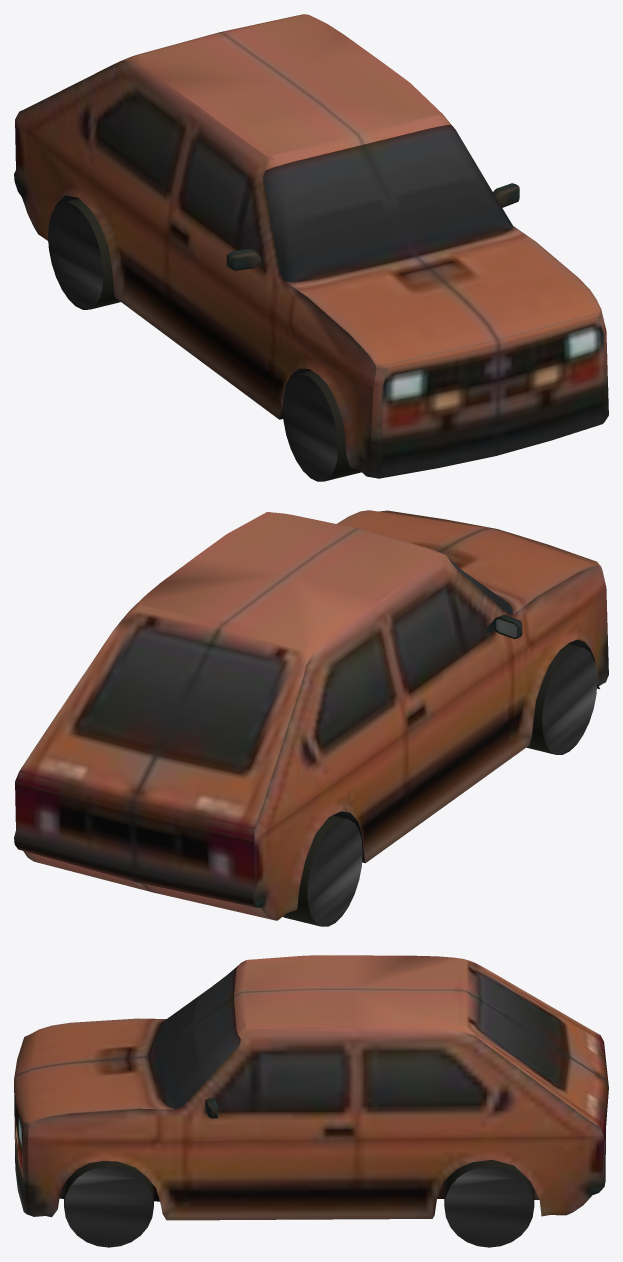
File: n_fiat147.glb
The picture shows the model from 3 angles, top to bottom: view 1: azimuth 30°, elevation 25°; view 2: azimuth 150°, elevation 25°; view 3: azimuth 270°, elevation 25°; orthographic projection. The views are drawn at different scales.
Visible parts, largest first — view 1: Car_g2_0, wheel_rr, wheel_fr; view 2: Car_g2_0, wheel_rr, wheel_fr; view 3: Car_g2_0, wheel_rl, wheel_fl.
Part boxes in pixels (left/top/right/bottom): Car_g2_0: left=14, top=14, right=608, bottom=478; wheel_rr: left=48, top=198, right=120, bottom=309; wheel_fr: left=282, top=370, right=361, bottom=481; Car_g2_0: left=14, top=510, right=608, bottom=920; wheel_rr: left=283, top=815, right=362, bottom=926; wheel_fr: left=526, top=644, right=597, bottom=754; Car_g2_0: left=14, top=955, right=608, bottom=1220; wheel_rl: left=444, top=1159, right=534, bottom=1247; wheel_fl: left=64, top=1161, right=153, bottom=1247.
Bounding box in the file's own units: 1.69 × 1.42 × 3.69.
2 materials, 1 textured.
